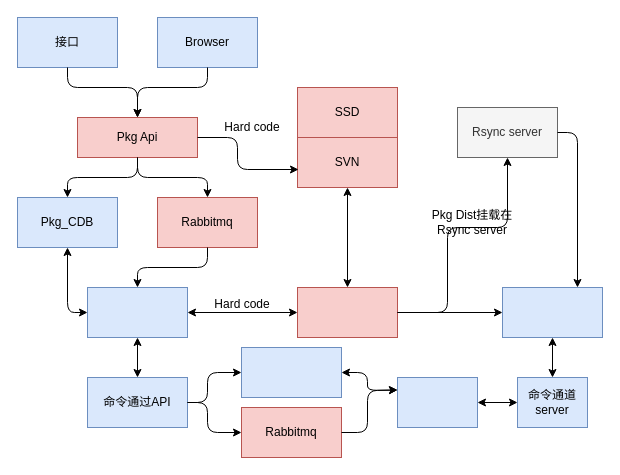
Image size: 620x475. Some labels were removed from this diagram. Each missing label, with the centre of its shape:
"Cmd_CDB" belongs at [291,372].
"Pkg Dist" belongs at [347,312].
"Pkg worker" belongs at [137,312].
"命令通道worker" belongs at [437,402].
"现网机器" belongs at [552,312].
